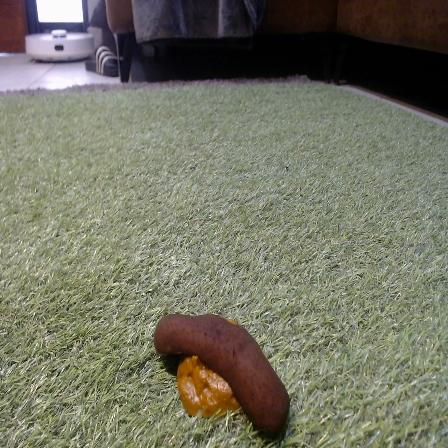dog-poop: (148, 304, 301, 440)
